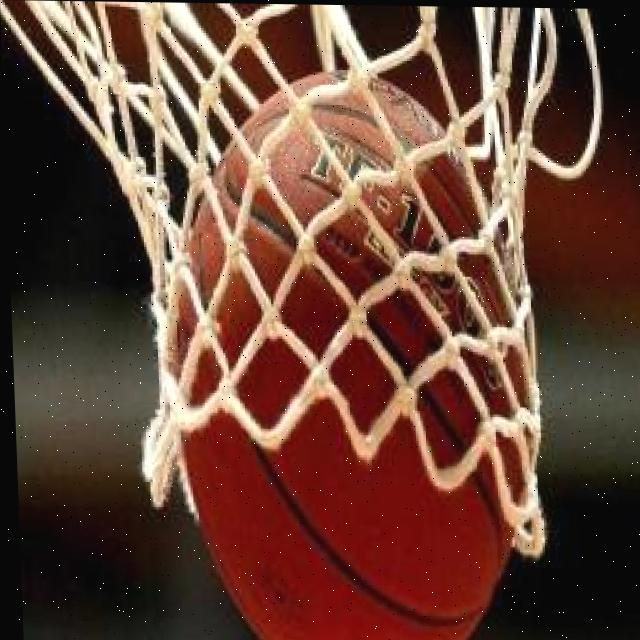basketball: (144, 52, 563, 640)
hoop: (0, 0, 629, 640), (0, 0, 622, 561)
